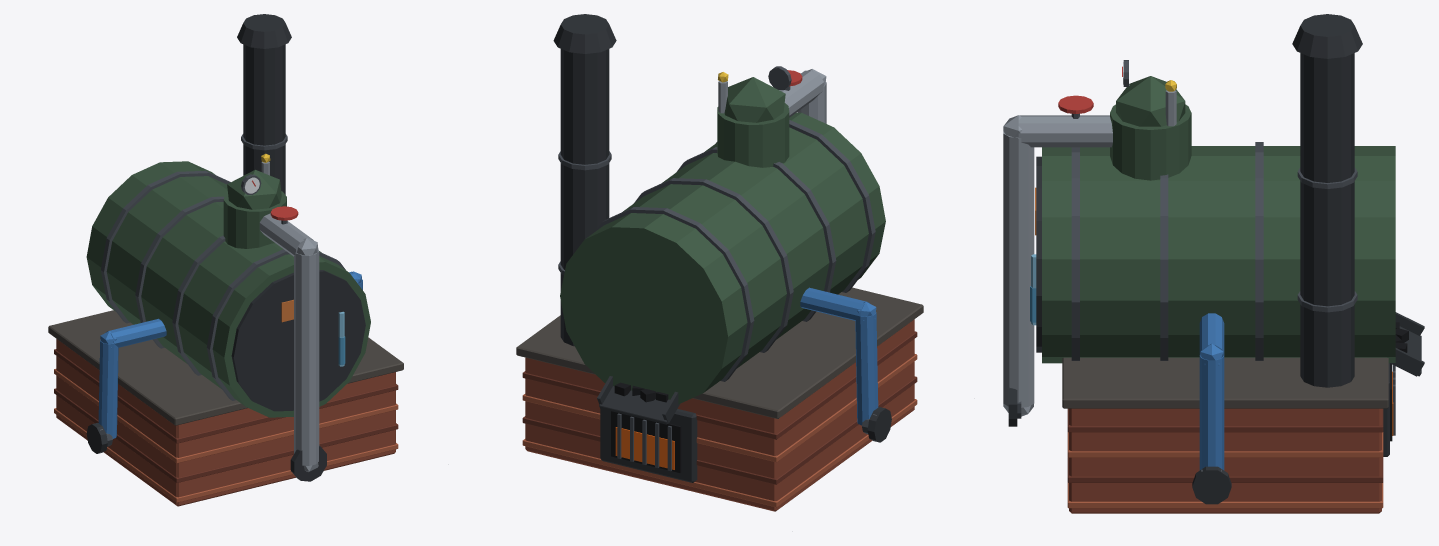
File: chaudiere.glb
3 renders of one model, left to right at view 1: azimuth 30°, elevation 25°; view 2: azimuth 150°, elevation 25°; view 3: azimuth 270°, elevation 25°, orthographic. The views are drawn at different scales.
Parts seen in each view (by area): view 1: corps.004, pieces_brique.002, pieces_fonte.012, pieces_pierre_sombre.006, pieces_acier.018, pieces_acier_sombre.016, cheminee.002, pieces_brique_claire.002, pieces_brique_sombre.002, pieces_bleu.006, dome.002, cheminee_tete.002 (+1 smaller); view 2: corps.004, pieces_brique.002, pieces_pierre_sombre.006, cheminee.002, pieces_acier_sombre.016, pieces_fonte.012, pieces_brique_claire.002, pieces_bleu.006, pieces_brique_sombre.002, dome.002, pieces_vert_fonce.006, cheminee_tete.002 (+3 smaller); view 3: corps.004, pieces_brique.002, cheminee.002, pieces_pierre_sombre.006, pieces_acier.018, pieces_acier_sombre.016, pieces_brique_claire.002, pieces_fonte.012, dome.002, pieces_brique_sombre.002, pieces_bleu.006, cheminee_tete.002 (+3 smaller).
Part boxes in pixels (x1,y1,x2,y2): corps.004: (86,161,370,417); pieces_brique.002: (56,339,395,506); pieces_fonte.012: (86,270,365,481); pieces_pierre_sombre.006: (48,310,403,425); pieces_acier.018: (100,161,319,471); pieces_acier_sombre.016: (101,134,345,446); cheminee.002: (243,44,285,194); pieces_brique_claire.002: (54,369,398,502); pieces_brique_sombre.002: (54,349,398,482); pieces_bleu.006: (98,271,362,438); dome.002: (223,191,286,248); cheminee_tete.002: (237,14,291,48); corps.004: (560,112,885,404); pieces_brique.002: (525,319,914,511); pieces_pierre_sombre.006: (516,287,923,418); cheminee.002: (560,49,609,346); pieces_acier_sombre.016: (558,86,875,471); pieces_fonte.012: (597,376,891,482); pieces_brique_claire.002: (522,354,917,507); pieces_bleu.006: (800,287,878,425); pieces_brique_sombre.002: (522,331,917,484); dome.002: (717,103,789,167); pieces_vert_fonce.006: (724,77,785,122); cheminee_tete.002: (553,14,616,53); corps.004: (1042,146,1395,363); pieces_brique.002: (1069,408,1381,513); cheminee.002: (1300,53,1354,387); pieces_pierre_sombre.006: (1062,357,1388,408); pieces_acier.018: (1003,84,1221,471); pieces_acier_sombre.016: (1017,113,1395,435); pieces_brique_claire.002: (1067,432,1383,508); pieces_fonte.012: (1008,156,1424,504); dome.002: (1110,104,1191,180); pieces_brique_sombre.002: (1067,408,1383,482); pieces_bleu.006: (1199,313,1224,470); cheminee_tete.002: (1292,14,1362,58).
Size of the model in its own units: 1.5 by 1.9 by 1.55.
